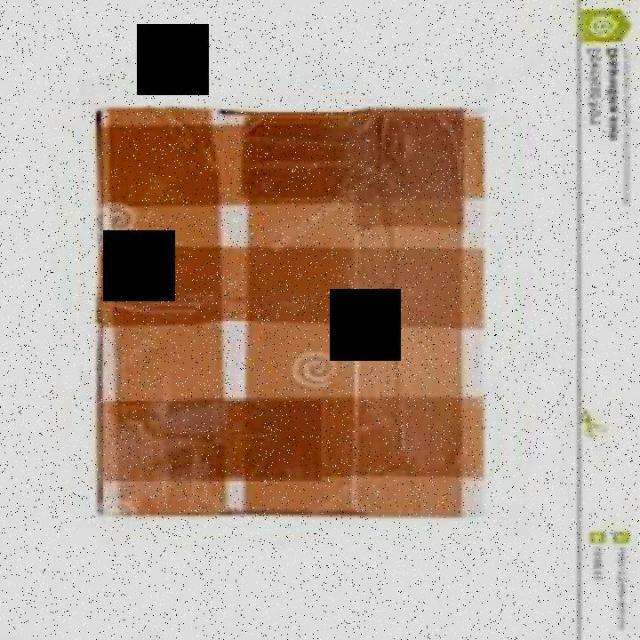box: (84, 96, 490, 542)
